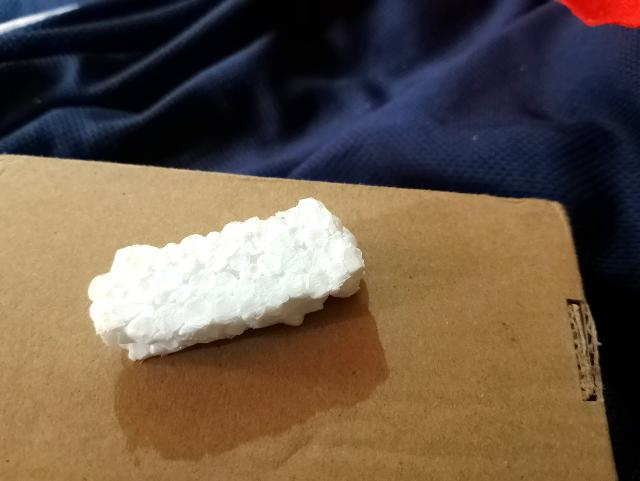cocksheet: (80, 183, 380, 362)
